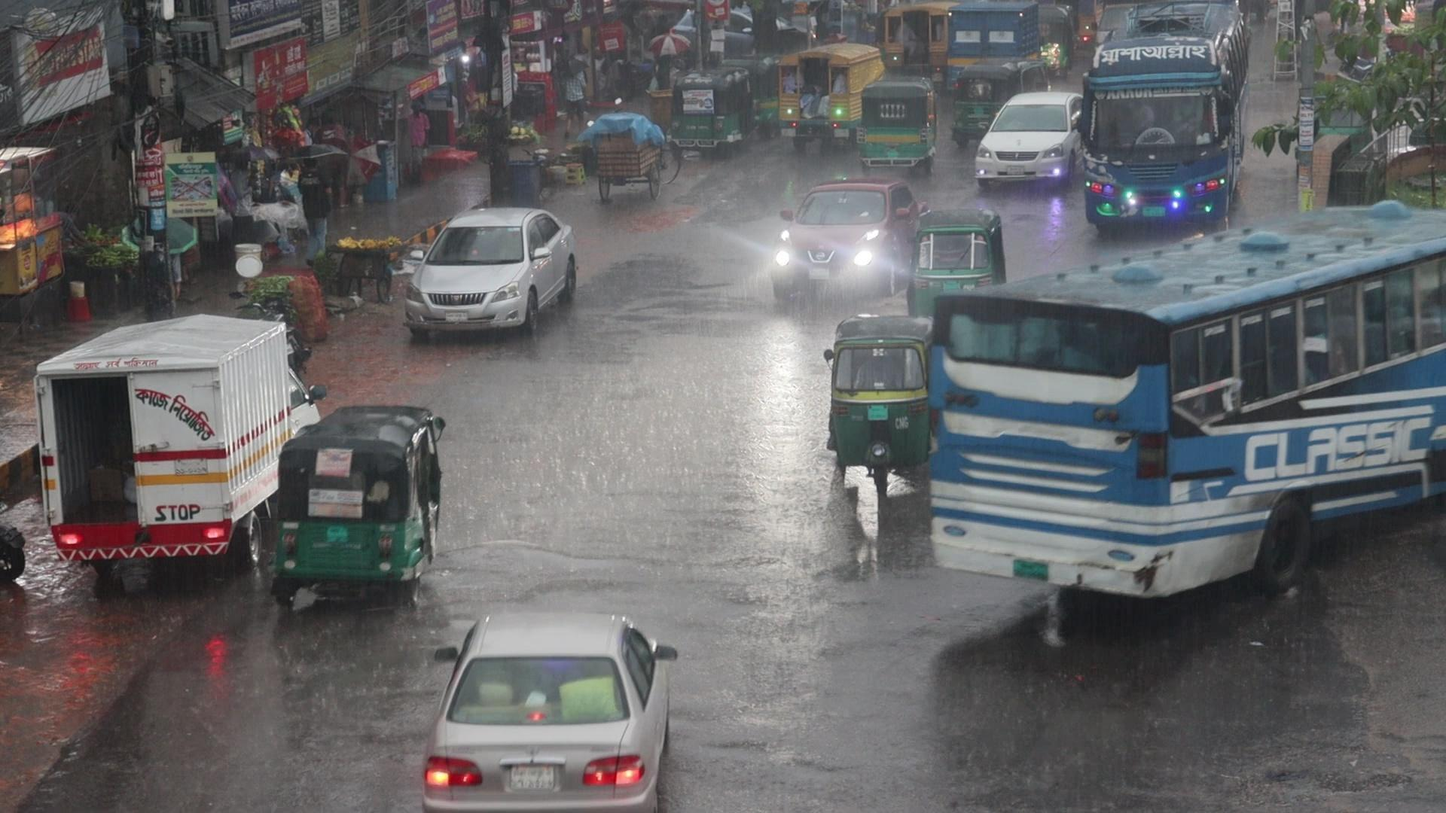Bus: (932, 196, 1446, 612), (1077, 3, 1252, 227)
Car: (420, 607, 678, 813), (403, 208, 579, 339), (770, 177, 909, 299), (975, 91, 1083, 190)
